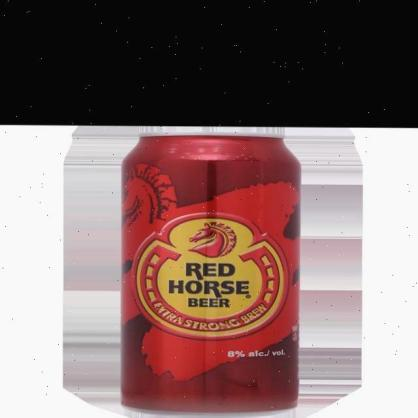can: (119, 132, 304, 415)
